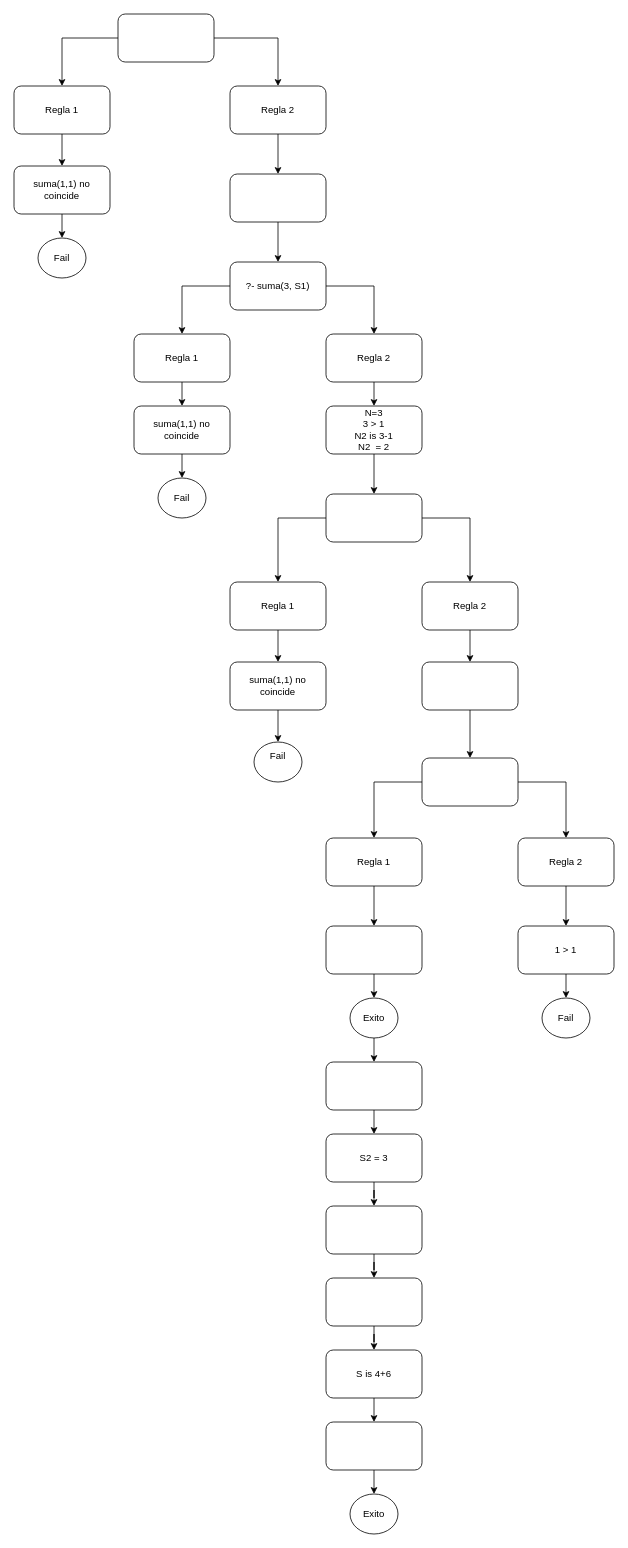
Some shapes in this 628 by 1548 pixel diagram are drawn without their labels. The centre of each missing label's shape, as x and y in pixels:
"?- suma(1, S3)" belongs at point 469,781.
"?- suma(2, S2)" belongs at point 373,517.
"?- suma(4, S)" belongs at point 165,37.
"N=2 2 > 1 N3 is 2-1 N3 = 1" belongs at point 469,685.
"N=4 4 > 1 N1 is 4-1 N1 = 3" belongs at point 277,197.
"S = 10" belongs at point 373,1445.
"S1 = 6" belongs at point 373,1301.
"S1 is 3+3" belongs at point 373,1229.
"S2 is 2+1" belongs at point 373,1085.
"S3 = 1" belongs at point 373,949.
